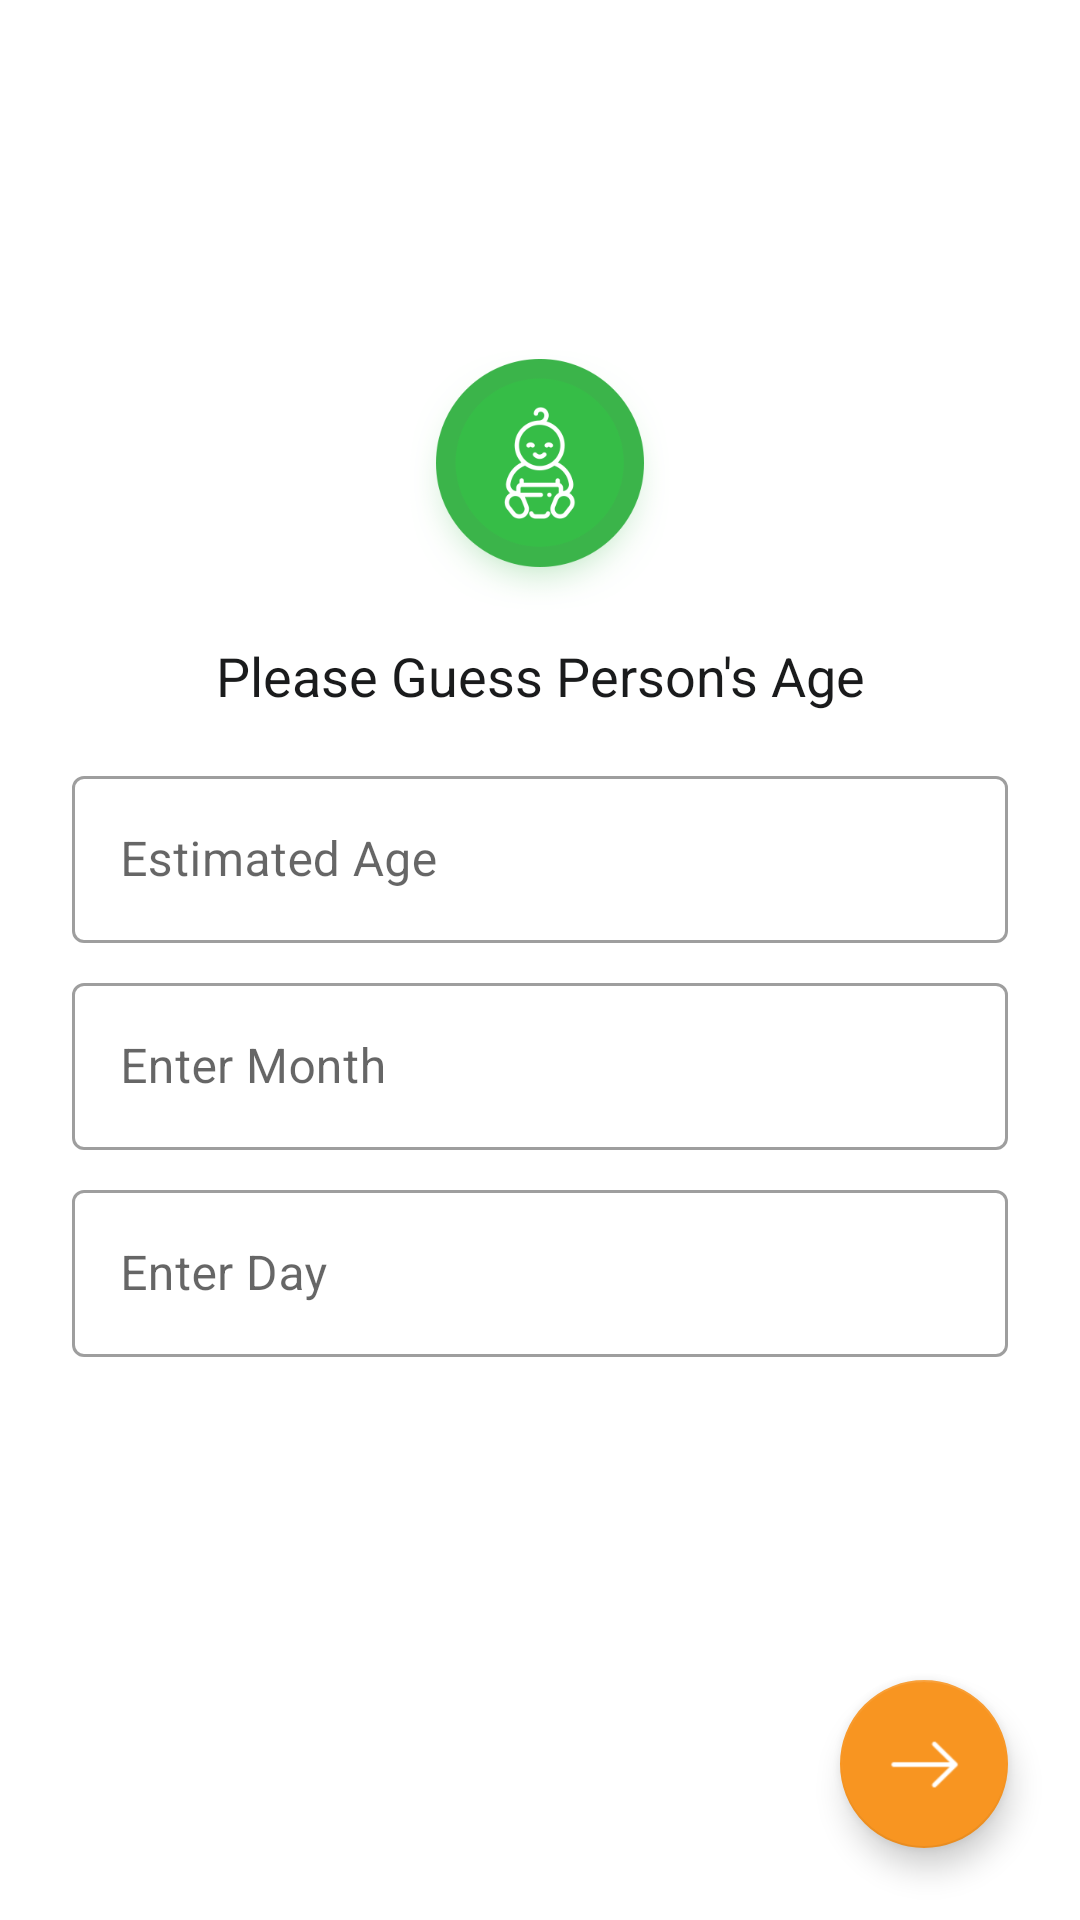

Named icons in this screenshot (1080 × 1920) and their centers, (x,y):
circle singlebaby: (540,468)
next arrow: (924,1764)
